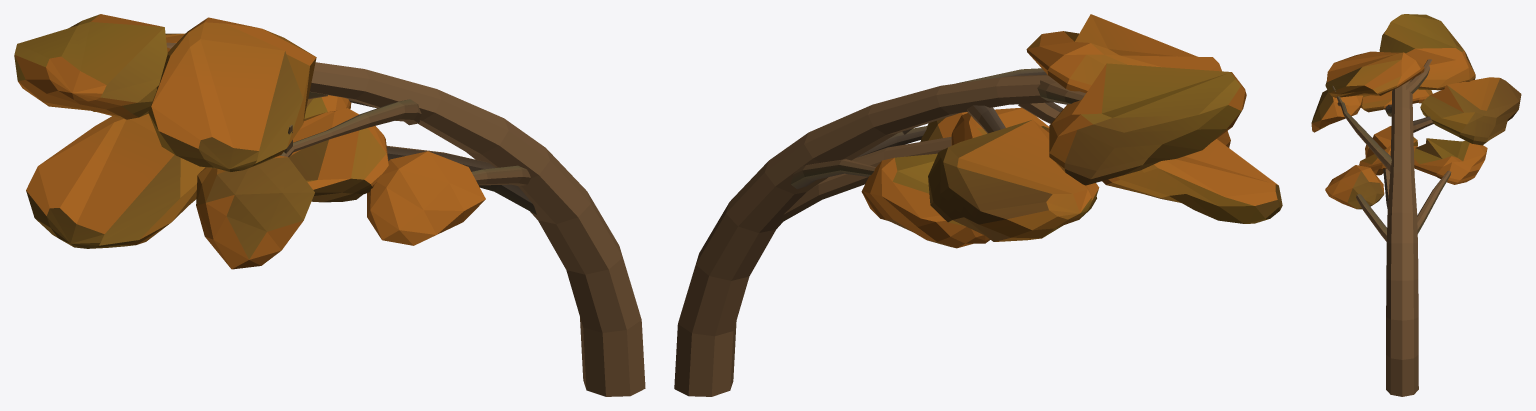
File: Tree80Bend_Autumn.fbx
3 views of the same model, side by side, from view 1: azimuth 30°, elevation 25°; view 2: azimuth 150°, elevation 25°; view 3: azimuth 270°, elevation 25° (orthographic). The views are drawn at different scales.
Parts seen in each view (by area): view 1: TreeBend80.004; view 2: TreeBend80.004; view 3: TreeBend80.004.
Part boxes in pixels (bbox=[...]): TreeBend80.004: bbox=[14, 14, 645, 396]; TreeBend80.004: bbox=[674, 14, 1282, 396]; TreeBend80.004: bbox=[1311, 14, 1521, 396].
Size of the model in its own units: 741 by 536 by 430.
